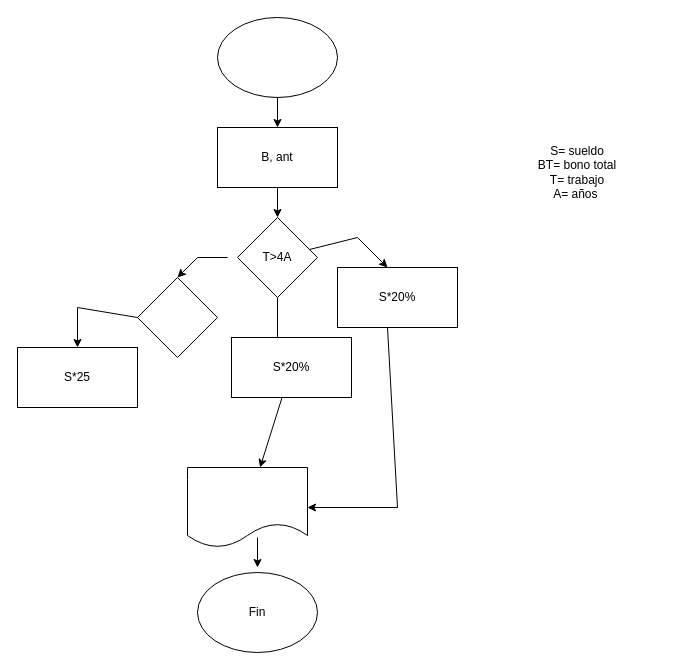
This 675x670 diagram has some shape labels left out. Each missing label, with the centre of its shape:
BT: (247,507)
Inicio: (277,57)
S<2000: (177,317)
